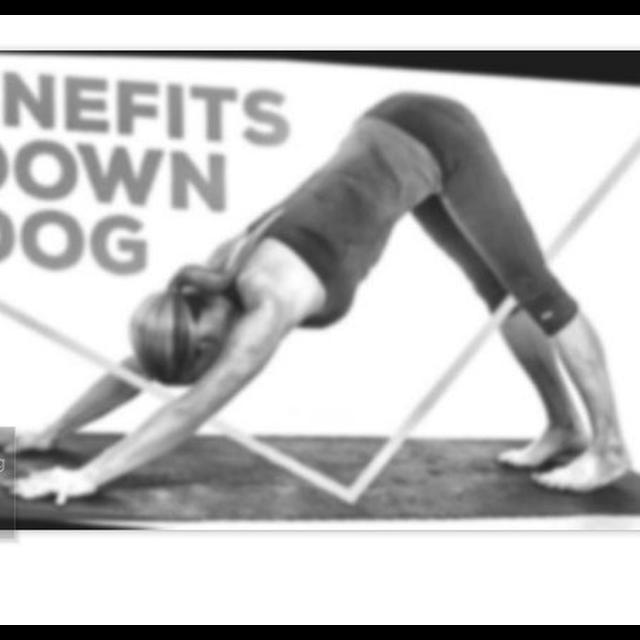Downward-Facing_Dog: (8, 85, 640, 504)
